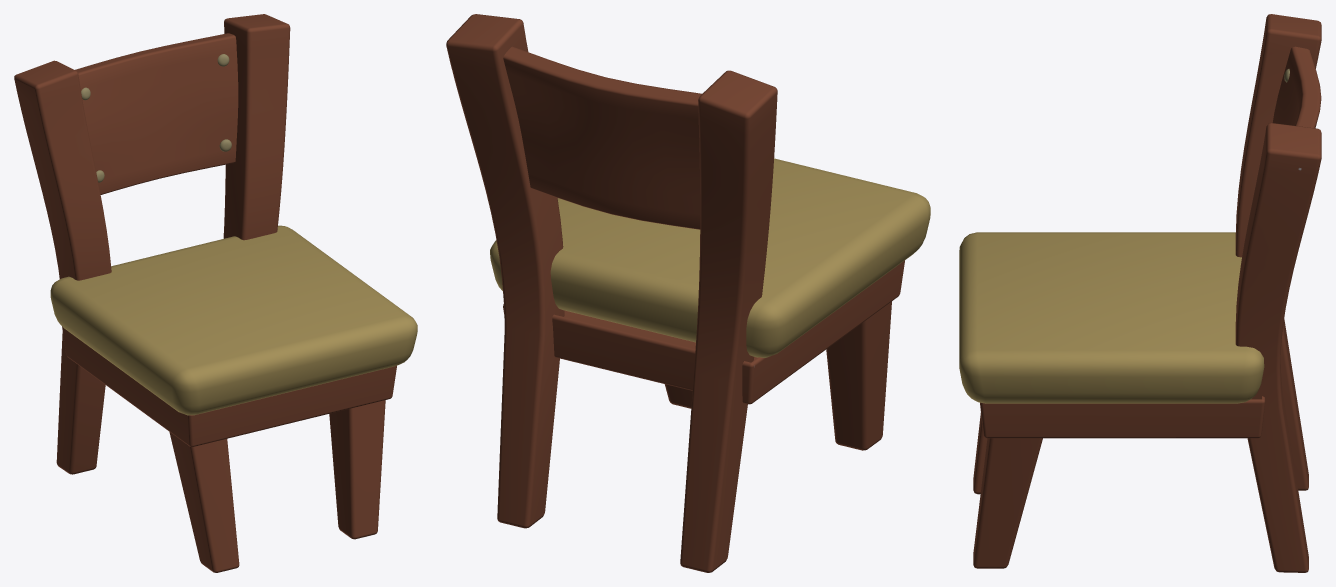
File: Chair.glb
3 views of the same model, side by side, from view 1: azimuth 30°, elevation 25°; view 2: azimuth 150°, elevation 25°; view 3: azimuth 270°, elevation 25° (orthographic). The views are drawn at different scales.
Parts seen in each view (by area): view 1: Chair; view 2: Chair; view 3: Chair.
Part boxes in pixels (bbox=[...]): Chair: bbox=[14, 14, 417, 572]; Chair: bbox=[446, 14, 930, 572]; Chair: bbox=[959, 14, 1321, 572].
Bounding box in the file's own units: 0.6556 × 1 × 0.7294.
1 material, 1 textured.
